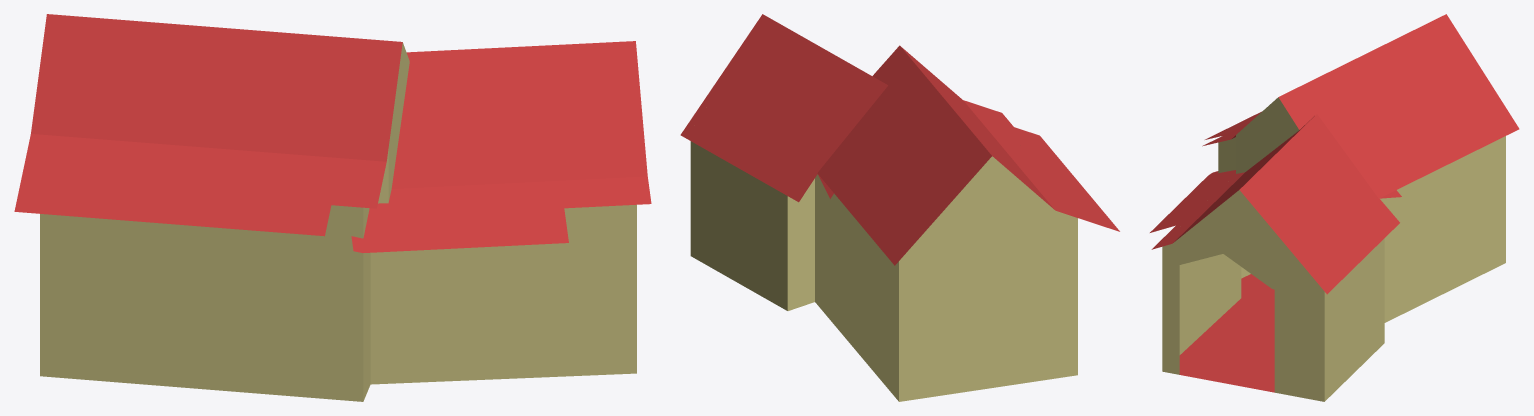
3 renders of one model, left to right at view 1: azimuth 30°, elevation 25°; view 2: azimuth 150°, elevation 25°; view 3: azimuth 270°, elevation 25°, orthographic. The views are drawn at different scales.
Size of the model in its own units: 30.25 by 23.02 by 15.17.
